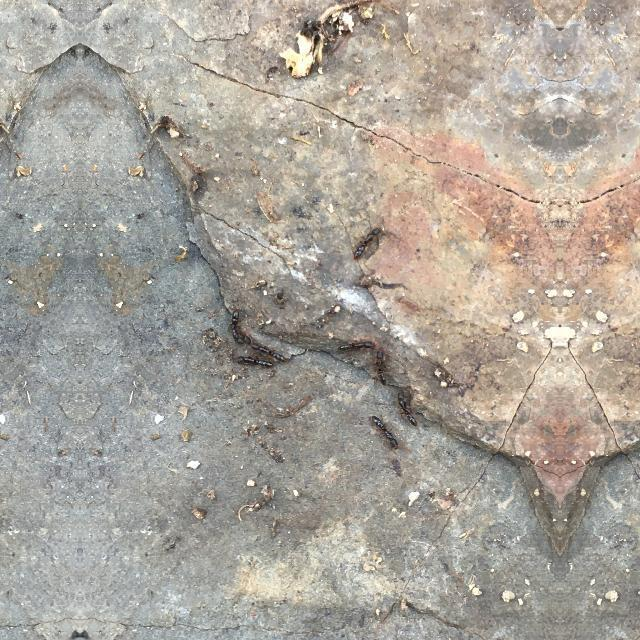Ponera: (388, 384, 424, 428), (347, 220, 385, 258), (362, 341, 394, 384), (245, 328, 285, 358), (222, 300, 248, 346), (368, 418, 402, 452), (330, 331, 378, 349), (232, 352, 274, 372)
